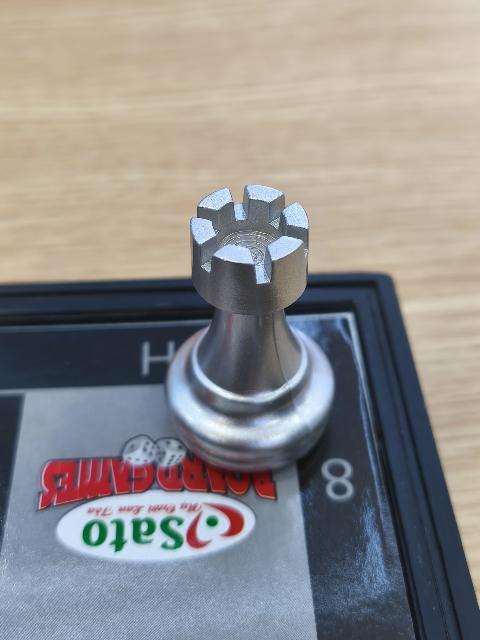white_rook: (169, 180, 337, 465)
